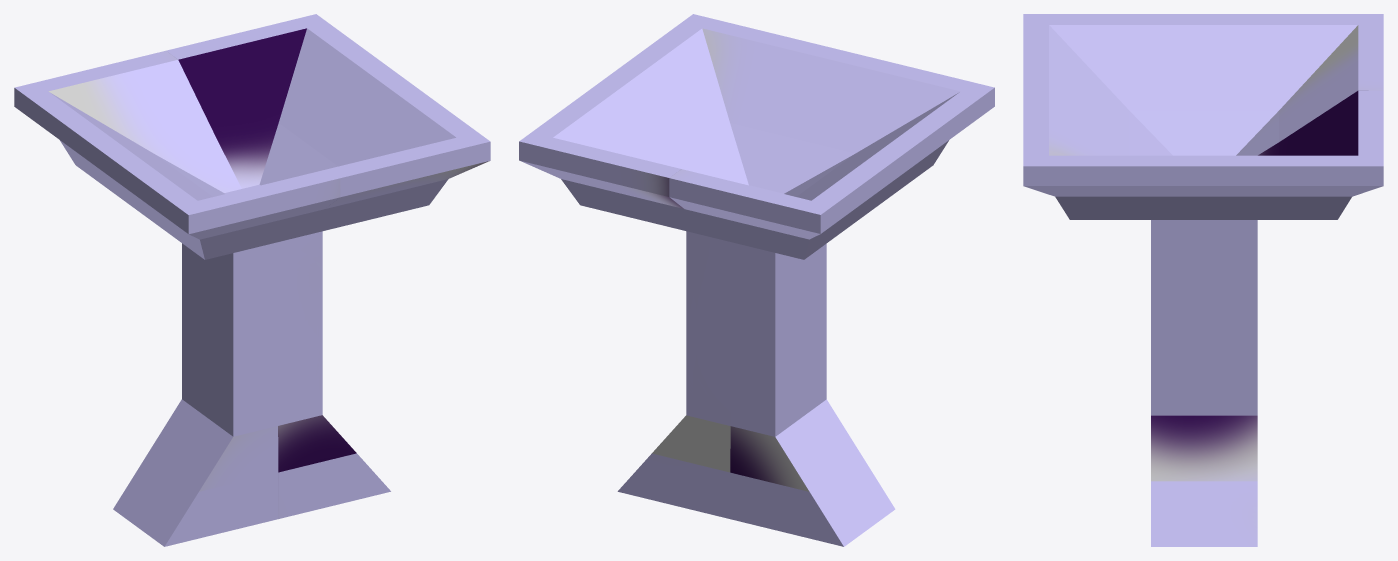
Rendered from altar.fbx.
3 views of the same model, side by side, from view 1: azimuth 30°, elevation 25°; view 2: azimuth 150°, elevation 25°; view 3: azimuth 270°, elevation 25° (orthographic). The views are drawn at different scales.
Visible parts, largest first — view 1: altar; view 2: altar; view 3: altar.
Part boxes in pixels (bbox=[...]): altar: bbox=[14, 14, 490, 546]; altar: bbox=[519, 14, 994, 546]; altar: bbox=[1023, 14, 1383, 546].
Size of the model in its own units: 677 by 828 by 677.
